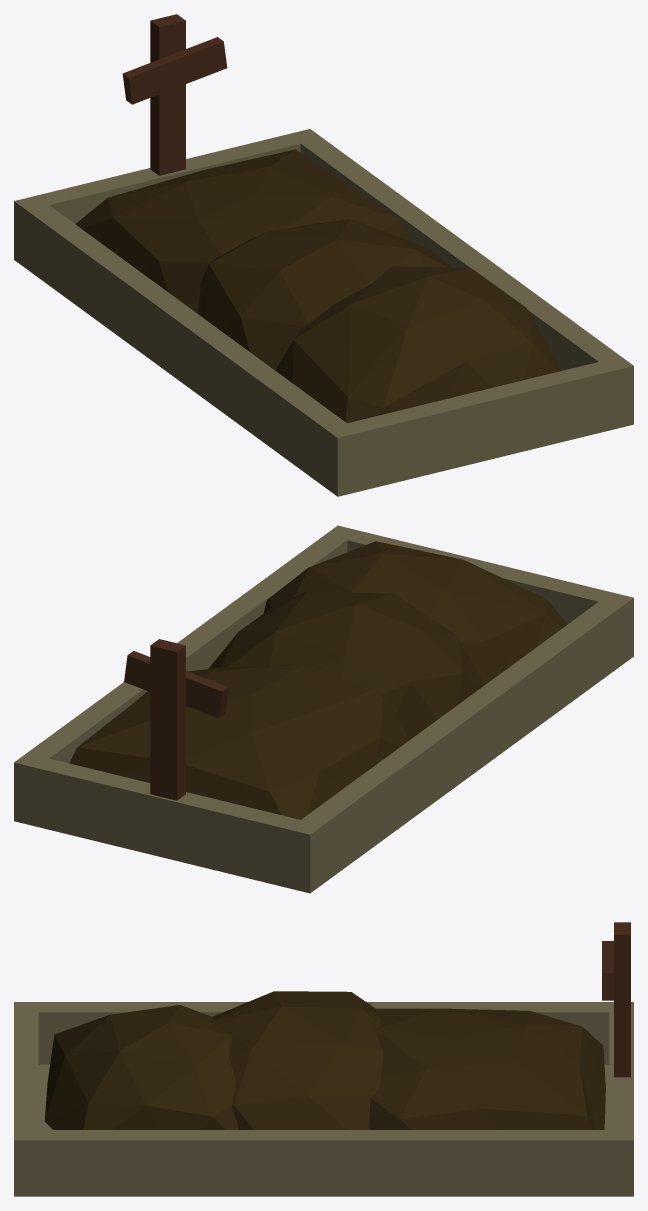
The model's file is Grave.fbx.
3 views of the same model, one above another, from view 1: azimuth 30°, elevation 25°; view 2: azimuth 150°, elevation 25°; view 3: azimuth 270°, elevation 25° (orthographic). The views are drawn at different scales.
Parts seen in each view (by area): view 1: Grave; view 2: Grave; view 3: Grave.
Boxes of the visible parts, left/top/right/bottom form: Grave: left=14, top=14, right=633, bottom=496; Grave: left=14, top=525, right=633, bottom=893; Grave: left=14, top=922, right=633, bottom=1196.
Size of the model in its own units: 267 by 179 by 506.
